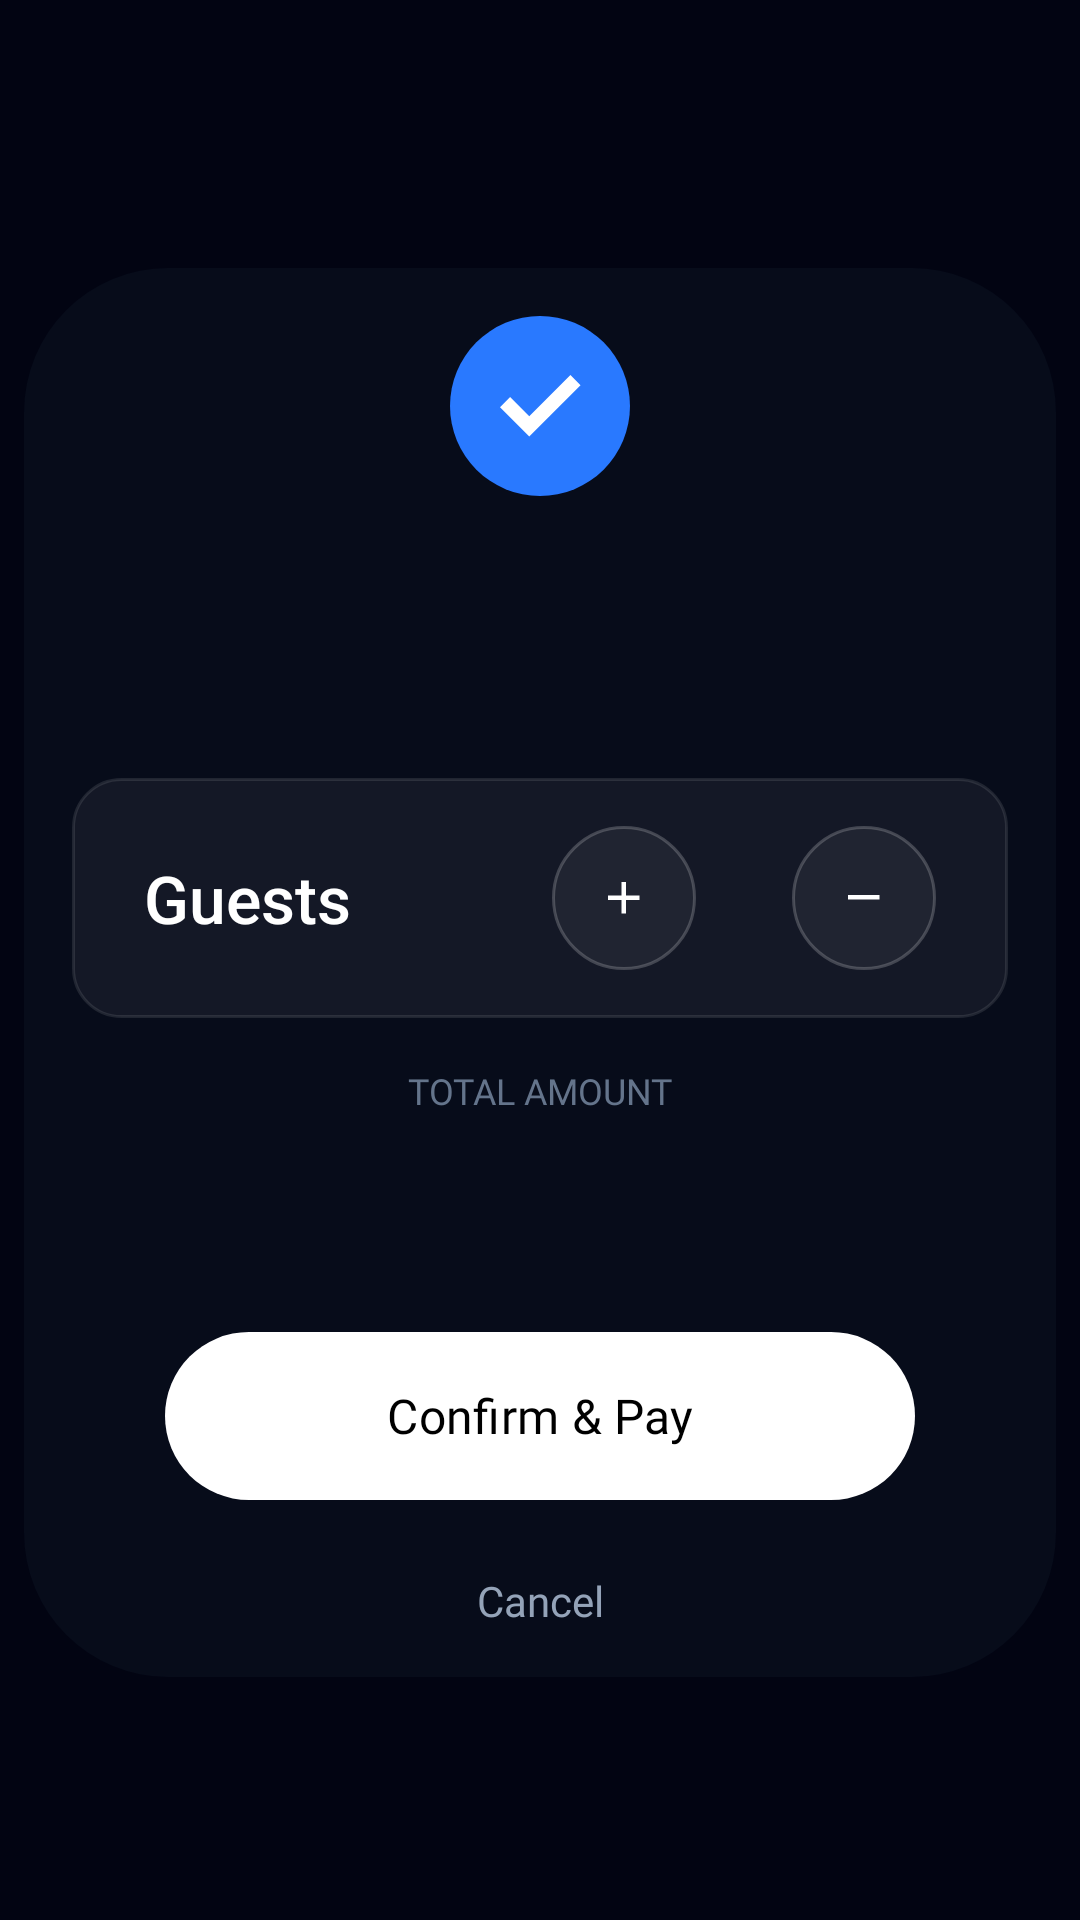

Icons on this 1080 x 1920 Android screen, each with the point to tap as (x=x, y=y):
minus: (x=864, y=898)
plus: (x=624, y=898)
